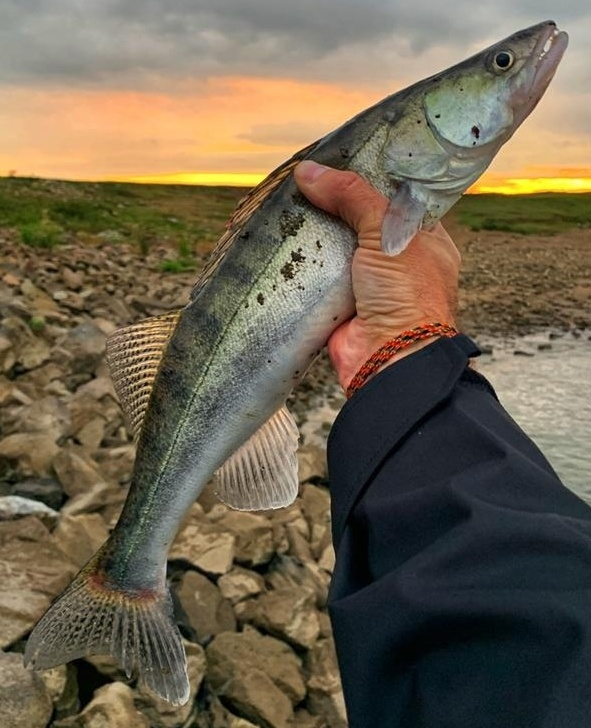Sander lucioperca: (20, 20, 571, 708)
